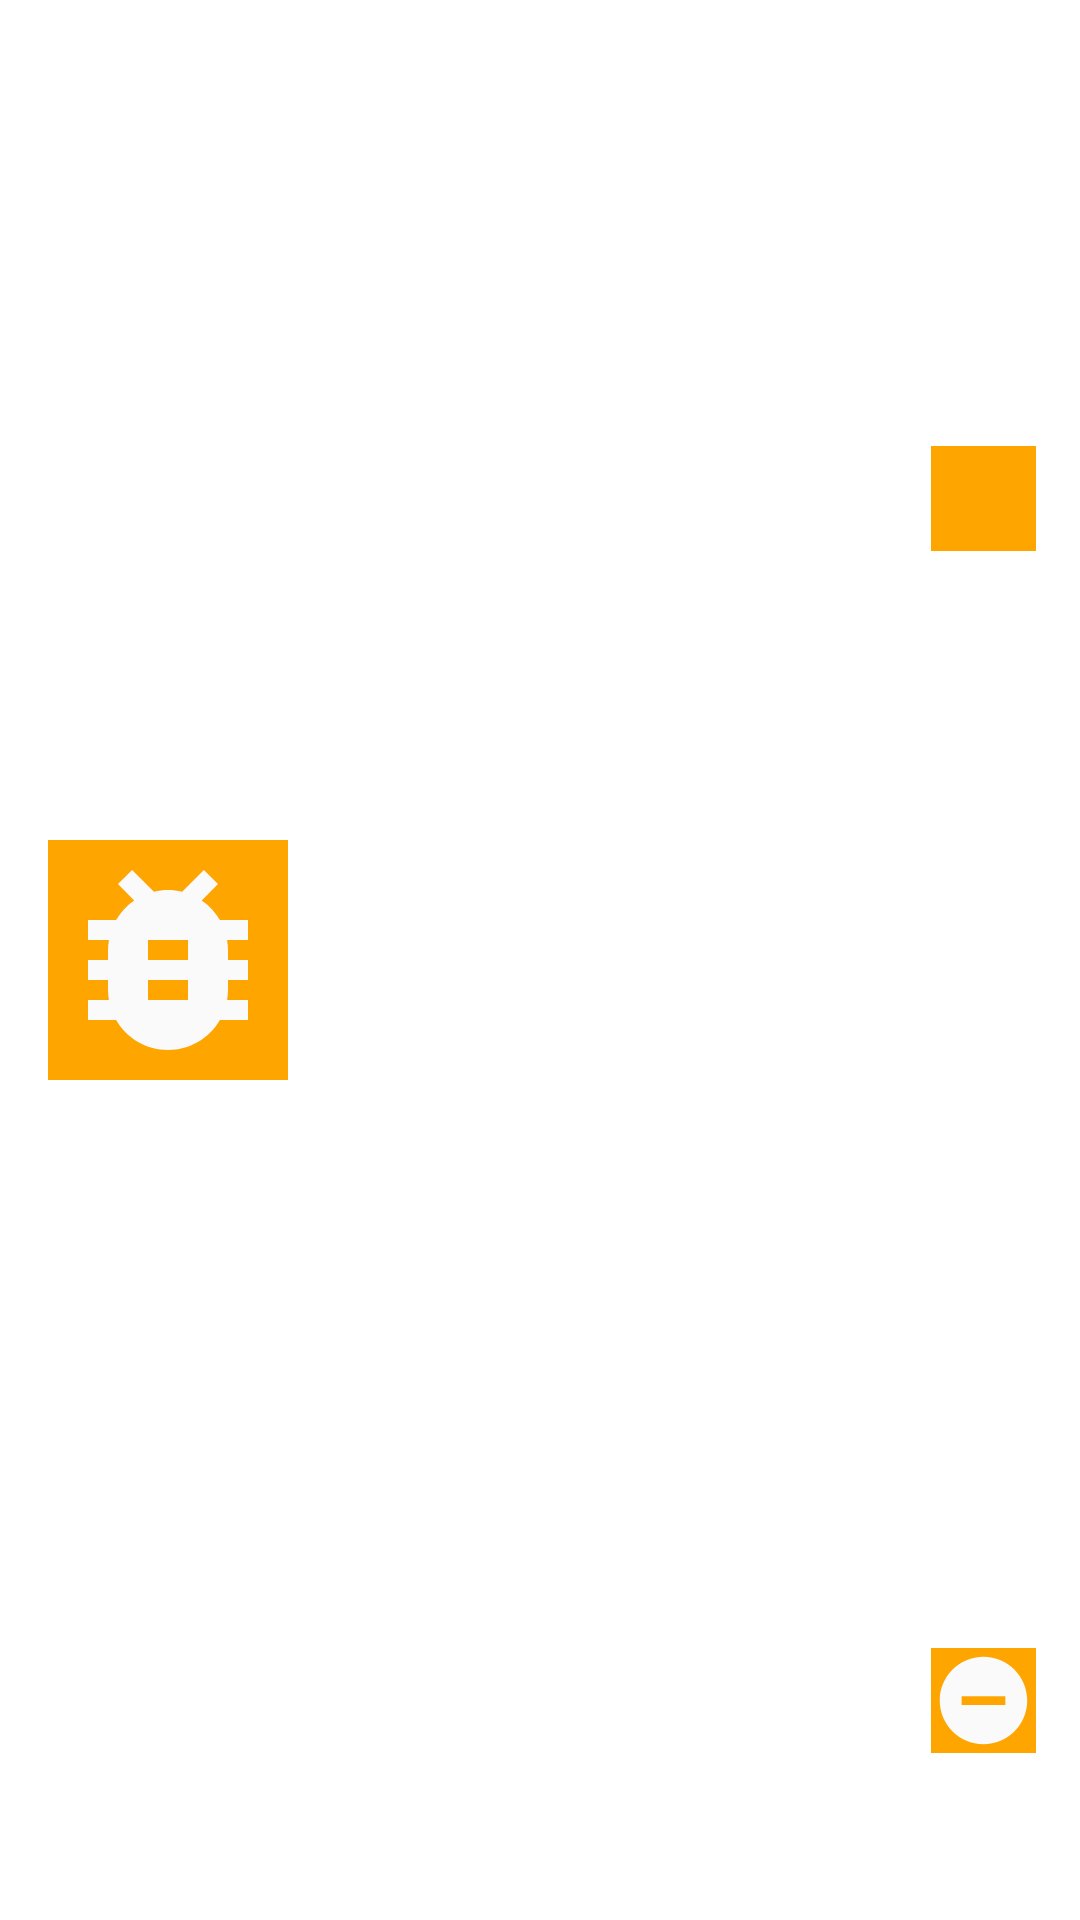

Icon click points for this 1080*1920 phone screenshot, format (x,y):
bug: (168,960)
delete: (983,1700)
